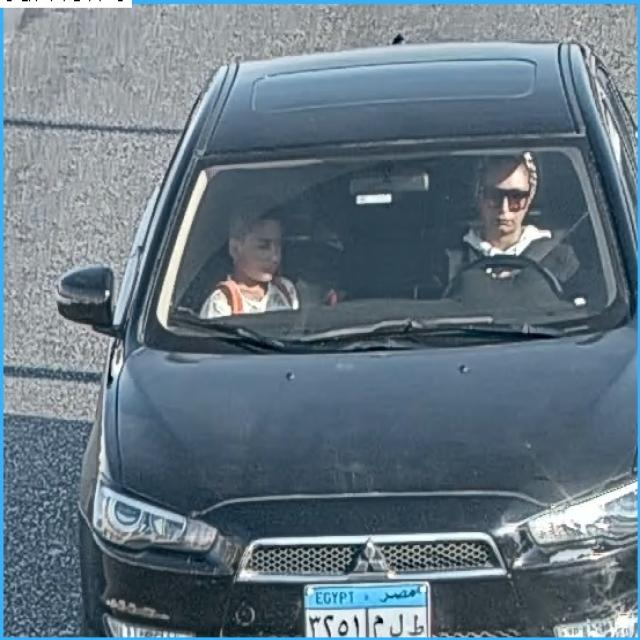windshield: (142, 143, 634, 332)
